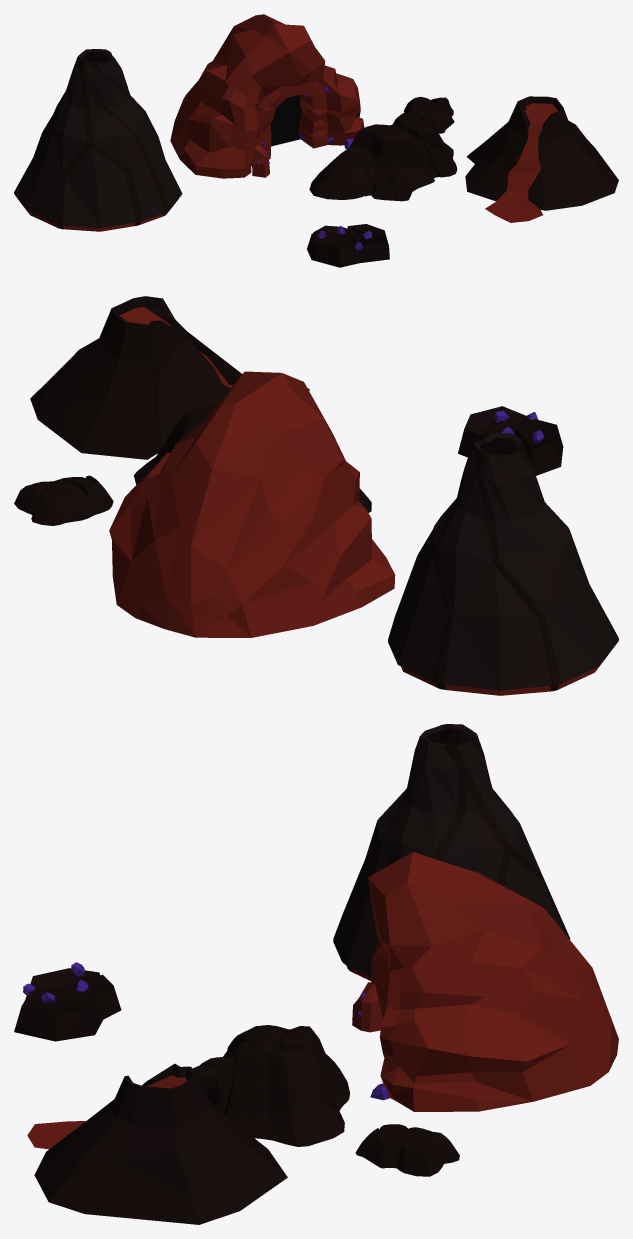
File: grumble vulcan.fbx
3 views of the same model, one above another, from view 1: azimuth 30°, elevation 25°; view 2: azimuth 150°, elevation 25°; view 3: azimuth 270°, elevation 25° (orthographic). The views are drawn at different scales.
Parts seen in each view (by area): view 1: Object002, Object001, Object005, Object006, Object004, Object003; view 2: Object002, Object001, Object005, Object004, Object003, Object006; view 3: Object002, Object005, Object001, Object006, Object004, Object003.
Part boxes in pixels (x1=…): Object002: x1=170, y1=14, x2=364, y2=178; Object001: x1=14, y1=49, x2=182, y2=231; Object005: x1=465, y1=96, x2=618, y2=222; Object006: x1=309, y1=111, x2=457, y2=201; Object004: x1=307, y1=224, x2=389, y2=267; Object003: x1=403, y1=96, x2=454, y2=133; Object002: x1=109, y1=371, x2=395, y2=637; Object001: x1=388, y1=433, x2=618, y2=695; Object005: x1=30, y1=296, x2=309, y2=459; Object004: x1=458, y1=406, x2=563, y2=475; Object003: x1=14, y1=475, x2=113, y2=525; Object006: x1=133, y1=403, x2=371, y2=512; Object002: x1=352, y1=852, x2=618, y2=1111; Object005: x1=27, y1=1063, x2=287, y2=1224; Object001: x1=333, y1=724, x2=570, y2=980; Object006: x1=192, y1=1025, x2=349, y2=1146; Object004: x1=14, y1=962, x2=121, y2=1041; Object003: x1=355, y1=1124, x2=459, y2=1176.
Size of the model in its own units: 257 by 73 by 189.
